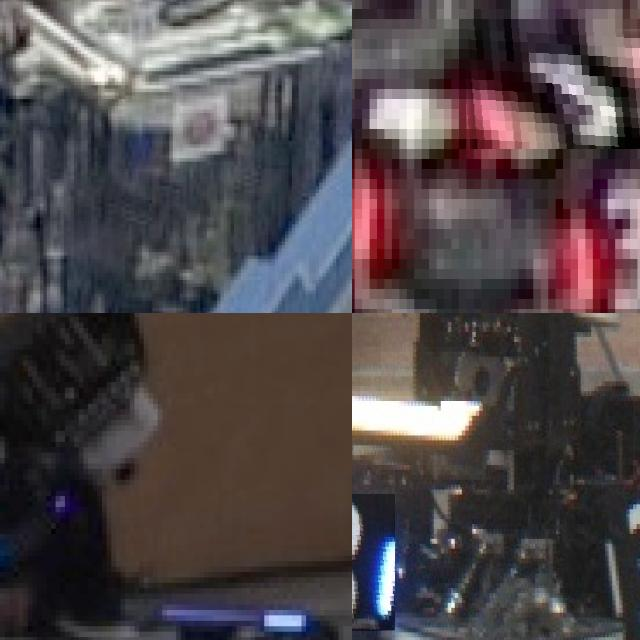B3: (352, 494, 395, 632)
R3: (459, 19, 640, 149), (563, 169, 640, 313), (352, 109, 376, 269)
